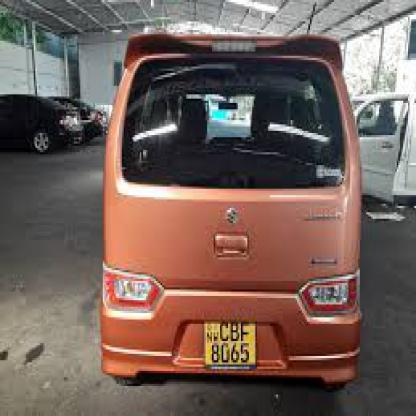car: (98, 21, 361, 397), (350, 84, 414, 210), (0, 86, 84, 157)
